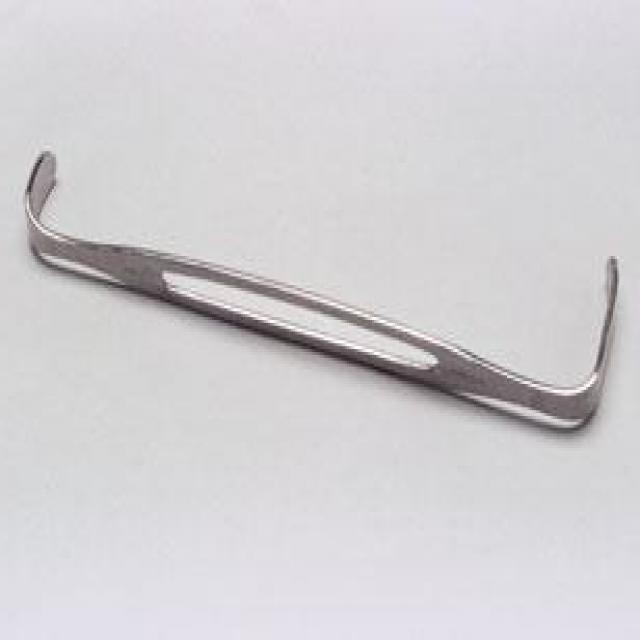Army_navy: (21, 140, 622, 440)
